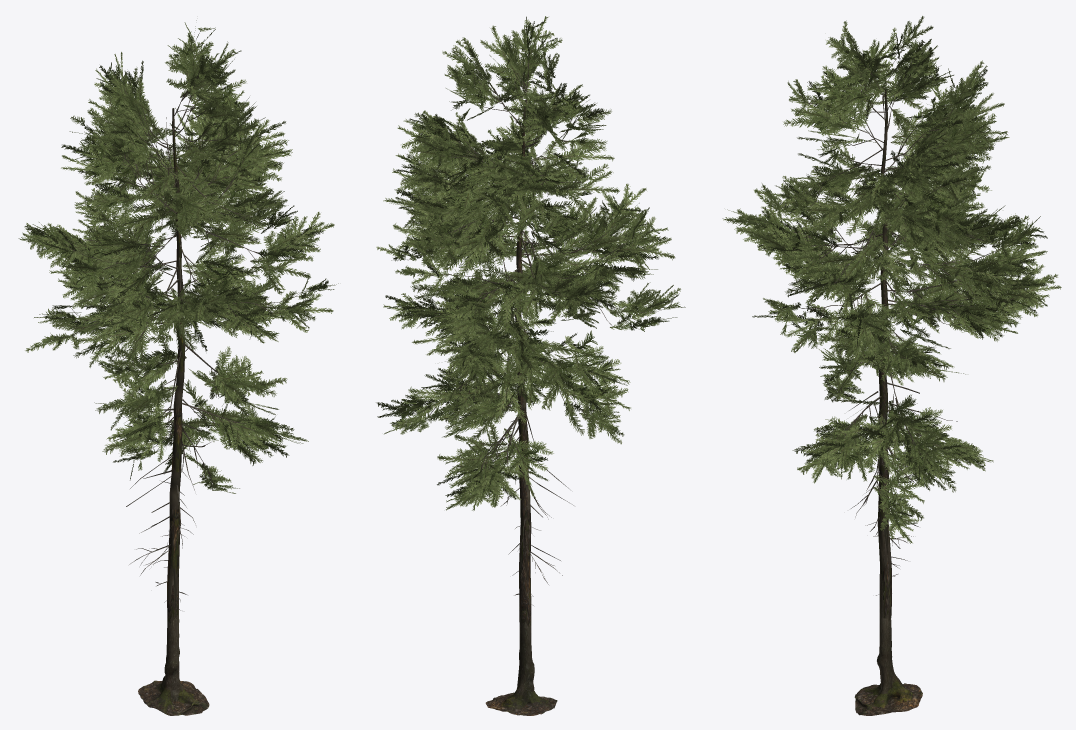
Rendered from fir-1-near.glb.
The picture shows the model from 3 angles, left to right: view 1: azimuth 30°, elevation 25°; view 2: azimuth 150°, elevation 25°; view 3: azimuth 270°, elevation 25°; orthographic projection. The views are drawn at different scales.
Visible parts, largest first — view 1: fir_1_near; view 2: fir_1_near; view 3: fir_1_near.
Part boxes in pixels (x1,y1,x2,y2): fir_1_near: [18, 20, 338, 715]; fir_1_near: [376, 16, 685, 715]; fir_1_near: [722, 16, 1061, 715].
Size of the model in its own units: 6.37 by 15 by 6.78.
3 materials, 3 textured.
